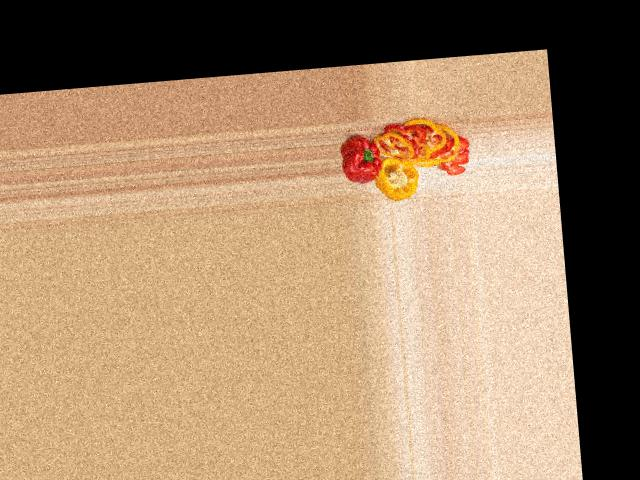bell_pepper: (375, 155, 422, 203)
